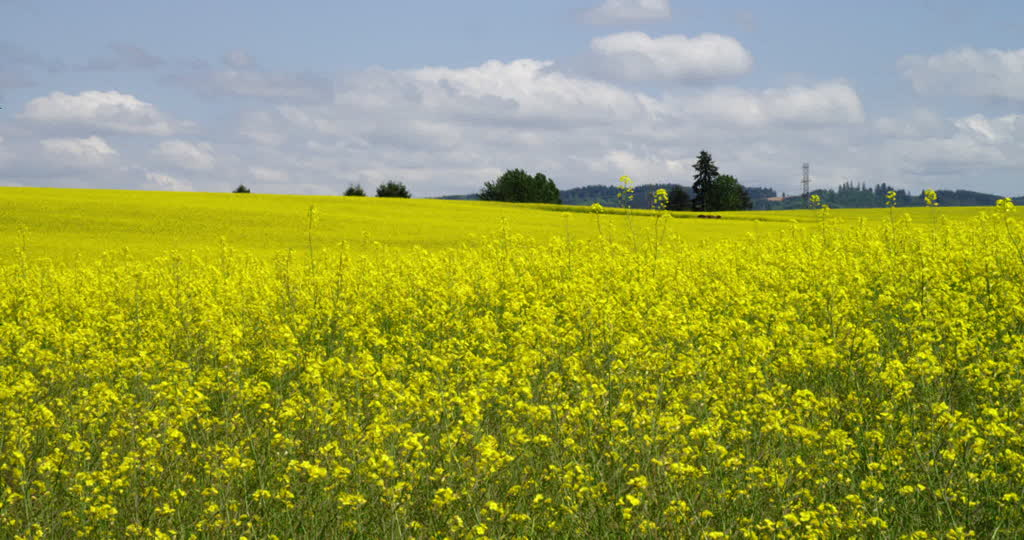mustard: (6, 223, 1021, 536)
